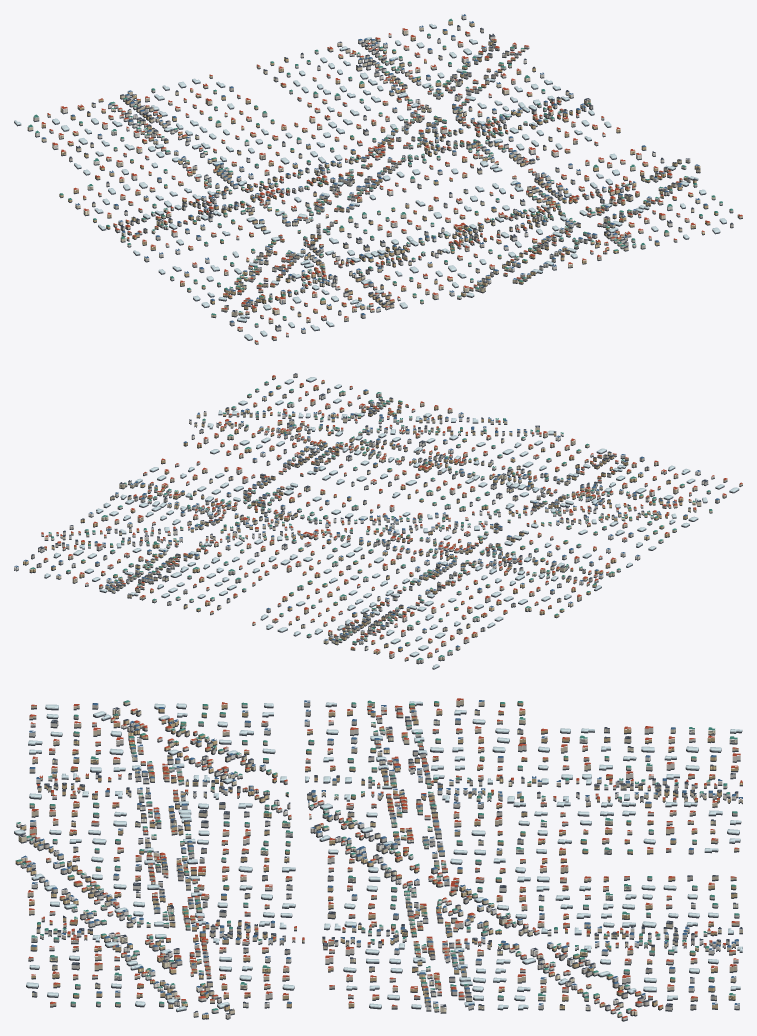
The model's file is osm_buildings_T_W04_S01.glb.
3 renders of one model, top to bottom at view 1: azimuth 30°, elevation 25°; view 2: azimuth 150°, elevation 25°; view 3: azimuth 270°, elevation 25°, orthographic. The views are drawn at different scales.
Parts seen in each view (by area): view 1: OSM_T_W04_S01_foundation, OSM_T_W04_S01_greenhouse_blend, OSM_T_W04_S01_wall_cream_stucco, OSM_T_W04_S01_wall_french_ochre, OSM_T_W04_S01_wall_warm_white, OSM_T_W04_S01_wall_pastel_sand, OSM_T_W04_S01_roof_terracotta, OSM_T_W04_S01_roof_mansard_slate, OSM_T_W04_S01_roof_mint_metal, OSM_T_W04_S01_roof_alpine_blue, OSM_T_W04_S01_balcony_railing; view 2: OSM_T_W04_S01_foundation, OSM_T_W04_S01_greenhouse_blend, OSM_T_W04_S01_wall_cream_stucco, OSM_T_W04_S01_wall_french_ochre, OSM_T_W04_S01_wall_warm_white, OSM_T_W04_S01_roof_terracotta, OSM_T_W04_S01_wall_pastel_sand, OSM_T_W04_S01_roof_mansard_slate, OSM_T_W04_S01_roof_mint_metal, OSM_T_W04_S01_roof_alpine_blue; view 3: OSM_T_W04_S01_foundation, OSM_T_W04_S01_greenhouse_blend, OSM_T_W04_S01_wall_cream_stucco, OSM_T_W04_S01_wall_french_ochre, OSM_T_W04_S01_wall_warm_white, OSM_T_W04_S01_roof_terracotta, OSM_T_W04_S01_wall_pastel_sand, OSM_T_W04_S01_roof_mansard_slate, OSM_T_W04_S01_roof_mint_metal, OSM_T_W04_S01_roof_alpine_blue, OSM_T_W04_S01_balcony_railing.
Boxes of the visible parts, left/top/right/bottom form: OSM_T_W04_S01_foundation: left=14, top=18, right=742, bottom=344; OSM_T_W04_S01_greenhouse_blend: left=14, top=23, right=726, bottom=339; OSM_T_W04_S01_wall_cream_stucco: left=27, top=27, right=742, bottom=343; OSM_T_W04_S01_wall_french_ochre: left=41, top=21, right=718, bottom=316; OSM_T_W04_S01_wall_warm_white: left=35, top=15, right=722, bottom=336; OSM_T_W04_S01_wall_pastel_sand: left=33, top=25, right=733, bottom=326; OSM_T_W04_S01_roof_terracotta: left=42, top=28, right=742, bottom=341; OSM_T_W04_S01_roof_mansard_slate: left=69, top=25, right=733, bottom=327; OSM_T_W04_S01_roof_mint_metal: left=28, top=18, right=732, bottom=324; OSM_T_W04_S01_roof_alpine_blue: left=42, top=14, right=707, bottom=329; OSM_T_W04_S01_balcony_railing: left=43, top=31, right=738, bottom=338; OSM_T_W04_S01_foundation: left=14, top=376, right=742, bottom=669; OSM_T_W04_S01_greenhouse_blend: left=44, top=377, right=739, bottom=668; OSM_T_W04_S01_wall_cream_stucco: left=43, top=376, right=742, bottom=660; OSM_T_W04_S01_wall_french_ochre: left=23, top=381, right=695, bottom=657; OSM_T_W04_S01_wall_warm_white: left=14, top=389, right=714, bottom=657; OSM_T_W04_S01_roof_terracotta: left=41, top=375, right=742, bottom=658; OSM_T_W04_S01_wall_pastel_sand: left=31, top=374, right=719, bottom=663; OSM_T_W04_S01_roof_mansard_slate: left=31, top=373, right=707, bottom=647; OSM_T_W04_S01_roof_mint_metal: left=30, top=381, right=712, bottom=660; OSM_T_W04_S01_roof_alpine_blue: left=14, top=389, right=719, bottom=648; OSM_T_W04_S01_foundation: left=14, top=704, right=742, bottom=1021; OSM_T_W04_S01_greenhouse_blend: left=14, top=701, right=742, bottom=1010; OSM_T_W04_S01_wall_cream_stucco: left=18, top=699, right=742, bottom=1016; OSM_T_W04_S01_wall_french_ochre: left=15, top=702, right=742, bottom=1018; OSM_T_W04_S01_wall_warm_white: left=16, top=703, right=740, bottom=1020; OSM_T_W04_S01_roof_terracotta: left=25, top=698, right=742, bottom=1018; OSM_T_W04_S01_wall_pastel_sand: left=20, top=701, right=737, bottom=1018; OSM_T_W04_S01_roof_mansard_slate: left=19, top=707, right=742, bottom=1014; OSM_T_W04_S01_roof_mint_metal: left=16, top=700, right=739, bottom=1013; OSM_T_W04_S01_roof_alpine_blue: left=21, top=700, right=742, bottom=1014; OSM_T_W04_S01_balcony_railing: left=19, top=699, right=735, bottom=1011.
Bounding box in the file's own units: 1960 × 41.14 × 1920.
